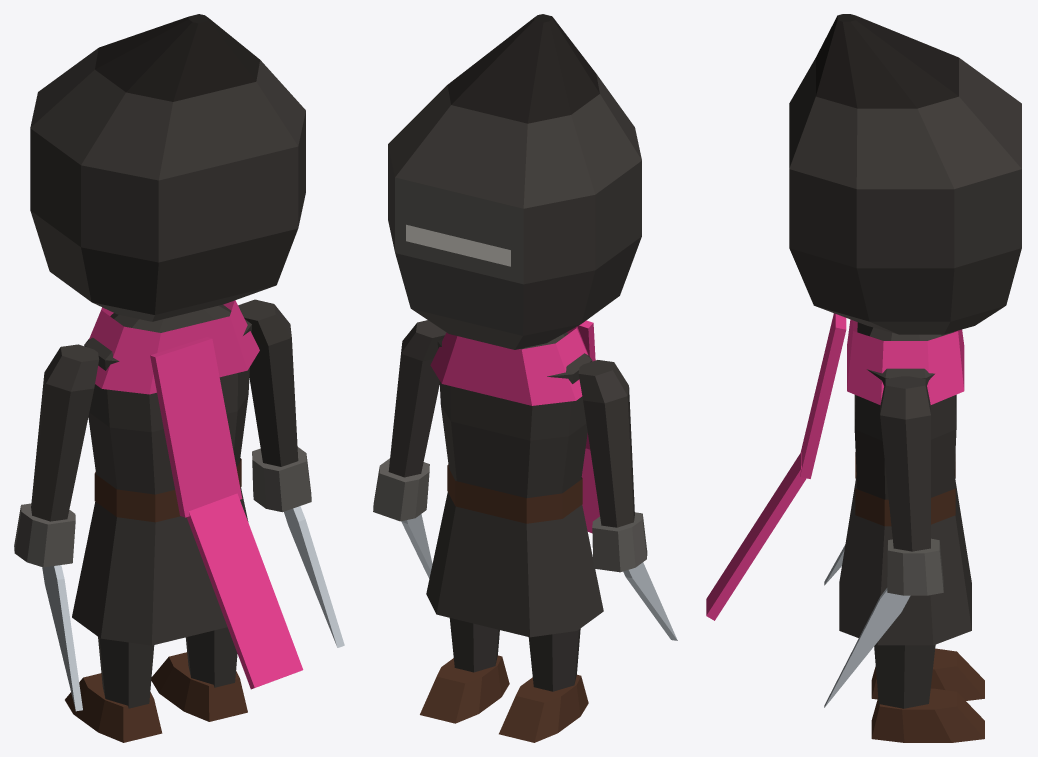
File: EN_Assassin.fbx
3 renders of one model, left to right at view 1: azimuth 30°, elevation 25°; view 2: azimuth 150°, elevation 25°; view 3: azimuth 270°, elevation 25°, orthographic. The views are drawn at different scales.
Visible parts, largest first — view 1: Head, Body, ArmL, ArmR, LegL, LegR; view 2: Head, Body, ArmL, ArmR, LegL, LegR; view 3: Head, Body, ArmR, LegR, LegL.
Boxes of the visible parts, x1,y1,x2,y2 form: Head: (30, 14, 305, 321); Body: (72, 300, 303, 689); ArmL: (14, 344, 99, 711); ArmR: (238, 299, 344, 647); LegL: (65, 637, 162, 742); LegR: (151, 627, 247, 721); Head: (388, 14, 641, 349); Body: (426, 320, 603, 637); ArmL: (578, 360, 677, 640); ArmR: (373, 320, 446, 578); LegL: (499, 628, 588, 742); LegR: (420, 618, 509, 723); Head: (789, 14, 1021, 334); Body: (706, 313, 971, 645); ArmR: (824, 376, 943, 707); LegR: (871, 644, 984, 742); LegL: (871, 648, 984, 700).
Size of the model in its own units: 0.5921 by 0.5947 by 1.43.
